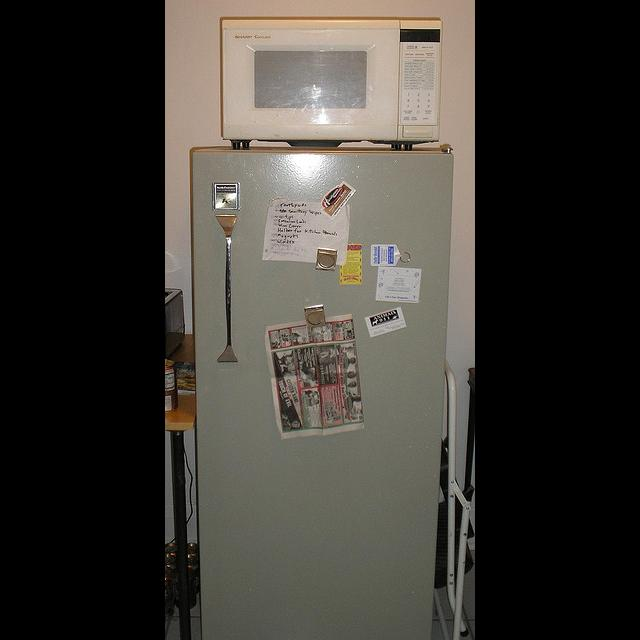Microwave: (220, 19, 439, 142)
Refrigerator: (192, 149, 457, 631)
